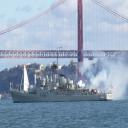Fragata: (10, 56, 116, 106)
